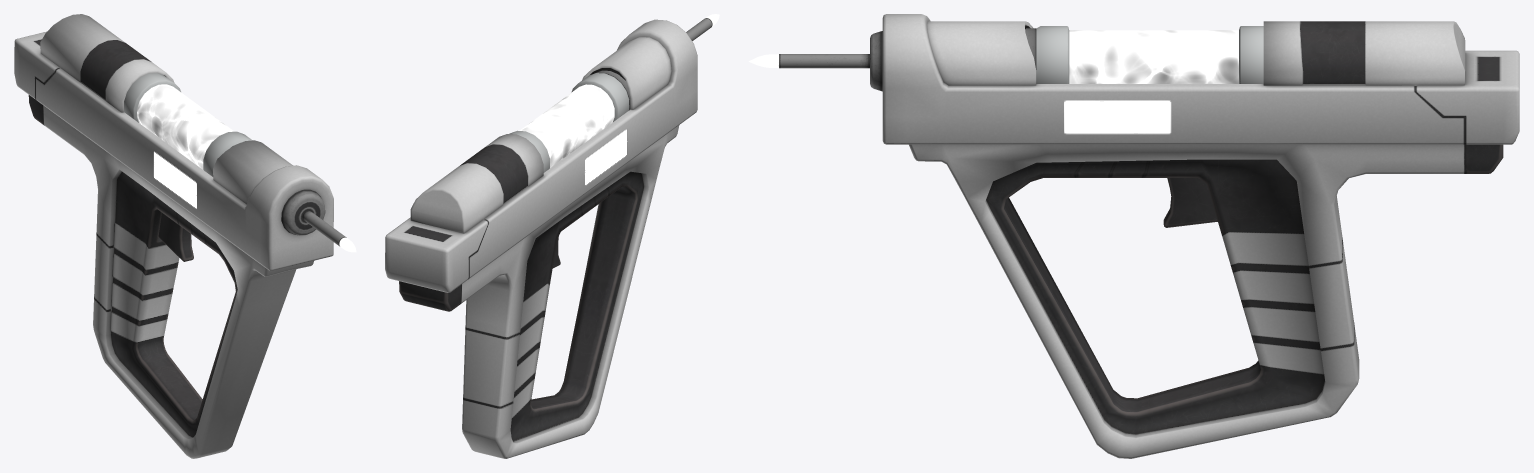
Rendered from SciFiMedInjector02_2.FBX.
3 renders of one model, left to right at view 1: azimuth 30°, elevation 25°; view 2: azimuth 150°, elevation 25°; view 3: azimuth 270°, elevation 25°, orthographic. The views are drawn at different scales.
Parts seen in each view (by area): view 1: SciFiMedInjector02_2, Liquid, Capsule, Trigger; view 2: SciFiMedInjector02_2, Liquid, Capsule; view 3: SciFiMedInjector02_2, Liquid, Capsule, Trigger.
Part boxes in pixels (x1=…): SciFiMedInjector02_2: x1=14, y1=14, x2=356, y2=458; Liquid: x1=137, y1=84, x2=234, y2=169; Capsule: x1=124, y1=73, x2=251, y2=176; Trigger: x1=158, y1=213, x2=193, y2=261; SciFiMedInjector02_2: x1=385, y1=14, x2=719, y2=458; Liquid: x1=519, y1=84, x2=614, y2=167; Capsule: x1=509, y1=70, x2=630, y2=172; SciFiMedInjector02_2: x1=748, y1=14, x2=1519, y2=458; Liquid: x1=1069, y1=30, x2=1238, y2=83; Capsule: x1=1025, y1=26, x2=1263, y2=83; Trigger: x1=1163, y1=178, x2=1217, y2=227.
Size of what is drawn, in the model's own units: 0.0359 by 0.1835 by 0.297.
